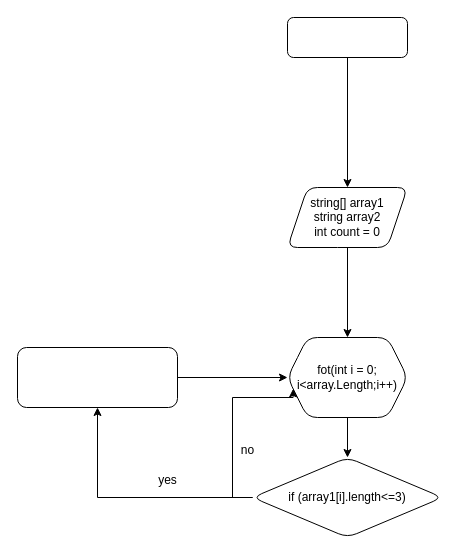
This 460x555 diagram has some shape labels left out. Each missing label, with the centre of its shape:
arraay2[count]= array[i] count++: (x=97, y=377)
main: (x=347, y=37)
